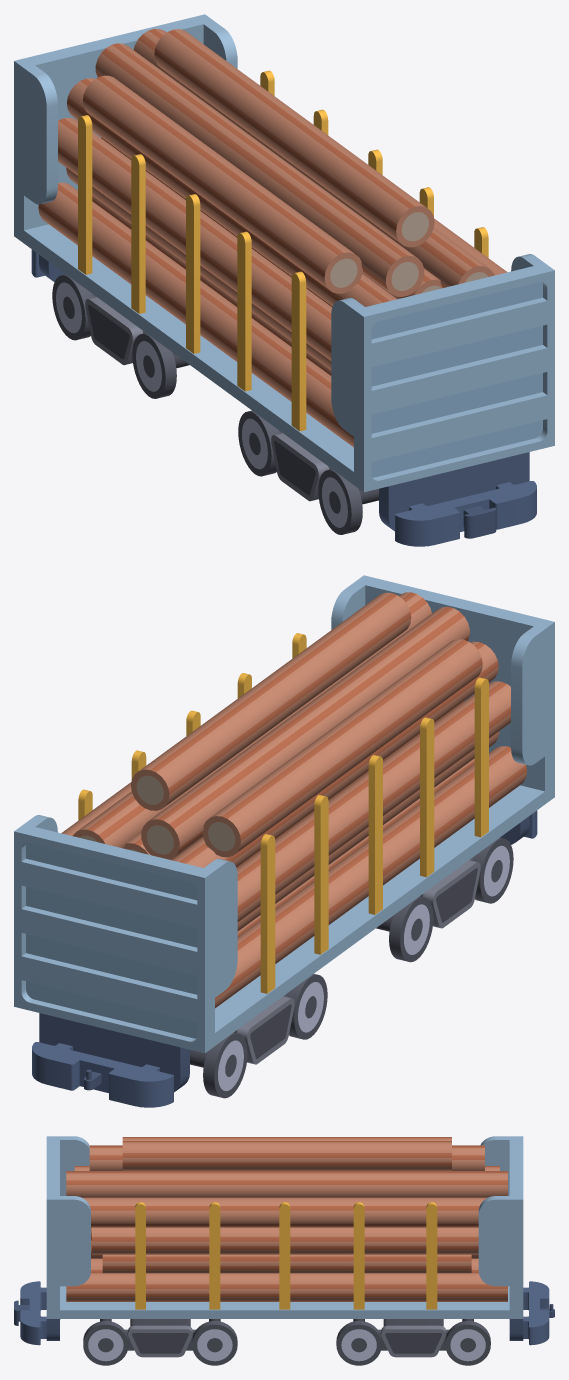
The model's file is Wagon Platform Wood .fbx.
3 views of the same model, one above another, from view 1: azimuth 30°, elevation 25°; view 2: azimuth 150°, elevation 25°; view 3: azimuth 270°, elevation 25° (orthographic). The views are drawn at different scales.
Visible parts, largest first — view 1: Wagon Platform Wood, Woods, Wagon Platform Wood Wheel.004, Wagon Platform Wood Wheel.003, Wagon Platform Wood Wheel.001, Wagon Platform Wood Wheel.002, Wagon Platform Wood Wheel, Wagon Platform Wood Wheel.005; view 2: Wagon Platform Wood, Woods, Wagon Platform Wood Wheel, Wagon Platform Wood Wheel.005, Wagon Platform Wood Wheel.002, Wagon Platform Wood Wheel.001, Wagon Platform Wood Wheel.003, Wagon Platform Wood Wheel.004; view 3: Woods, Wagon Platform Wood, Wagon Platform Wood Wheel.001, Wagon Platform Wood Wheel.002, Wagon Platform Wood Wheel.005, Wagon Platform Wood Wheel.004, Wagon Platform Wood Wheel.003, Wagon Platform Wood Wheel.
Part boxes in pixels (x1=…): Wagon Platform Wood: x1=14, y1=14, x2=554, y2=546; Woods: x1=38, y1=28, x2=507, y2=447; Wagon Platform Wood Wheel.004: x1=318, y1=469, x2=378, y2=534; Wagon Platform Wood Wheel.003: x1=132, y1=333, x2=189, y2=398; Wagon Platform Wood Wheel.001: x1=271, y1=430, x2=331, y2=501; Wagon Platform Wood Wheel.002: x1=85, y1=294, x2=145, y2=365; Wagon Platform Wood Wheel: x1=52, y1=274, x2=93, y2=340; Wagon Platform Wood Wheel.005: x1=238, y1=410, x2=279, y2=476; Wagon Platform Wood: x1=14, y1=575, x2=554, y2=1107; Woods: x1=61, y1=592, x2=527, y2=1008; Wagon Platform Wood Wheel: x1=190, y1=1032, x2=247, y2=1098; Wagon Platform Wood Wheel.005: x1=376, y1=896, x2=433, y2=962; Wagon Platform Wood Wheel.002: x1=234, y1=993, x2=294, y2=1064; Wagon Platform Wood Wheel.001: x1=420, y1=857, x2=480, y2=928; Wagon Platform Wood Wheel.003: x1=286, y1=974, x2=327, y2=1039; Wagon Platform Wood Wheel.004: x1=472, y1=838, x2=513, y2=903; Woods: x1=66, y1=1137, x2=507, y2=1301; Wagon Platform Wood: x1=14, y1=1136, x2=554, y2=1345; Wagon Platform Wood Wheel.001: x1=125, y1=1319, x2=195, y2=1357; Wagon Platform Wood Wheel.002: x1=378, y1=1319, x2=448, y2=1357; Wagon Platform Wood Wheel.005: x1=192, y1=1319, x2=237, y2=1365; Wagon Platform Wood Wheel.004: x1=83, y1=1319, x2=128, y2=1365; Wagon Platform Wood Wheel.003: x1=336, y1=1319, x2=381, y2=1365; Wagon Platform Wood Wheel: x1=445, y1=1319, x2=490, y2=1365.
Bounding box in the file's own units: 2.81 × 4.13 × 10.1.
